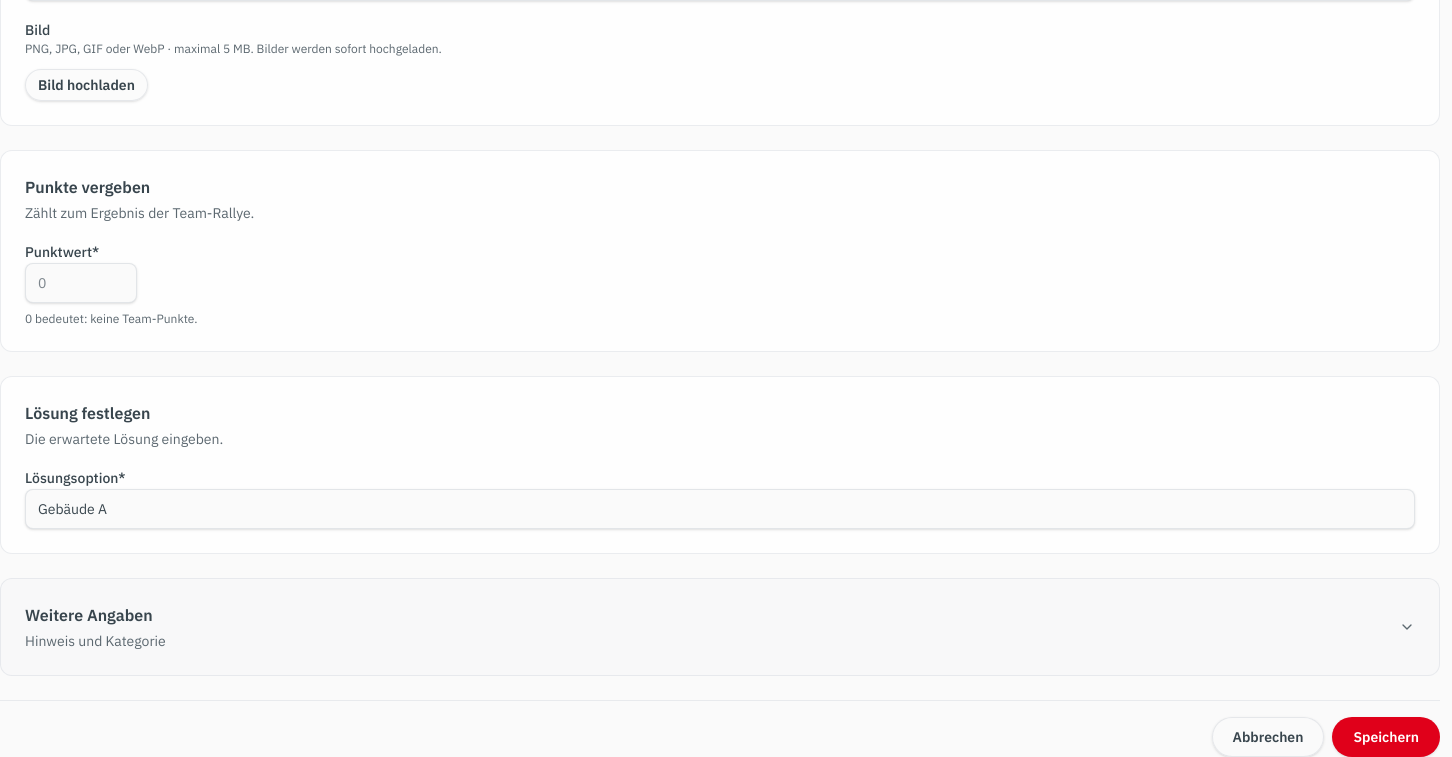
Test: QuestionForm › requires an image before submitting a picture question
The width and height of the screenshot is (1452, 757).
(page scrolled)
Click the button "Speichern".
click(1386, 737)  # box [1332,717,1440,756]
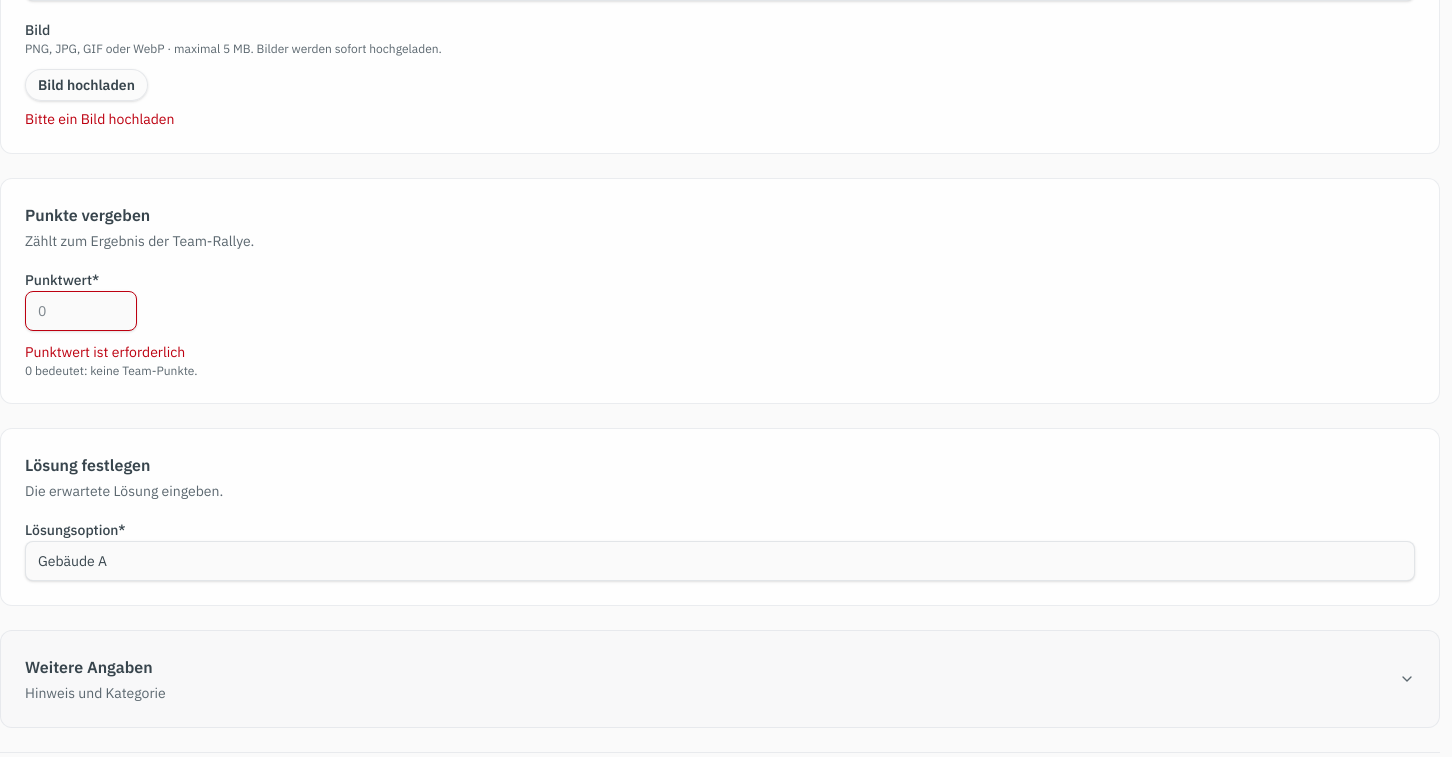
Check: the text "Bitte ein Bild hochladen" is shown, box [25,110,174,128]
